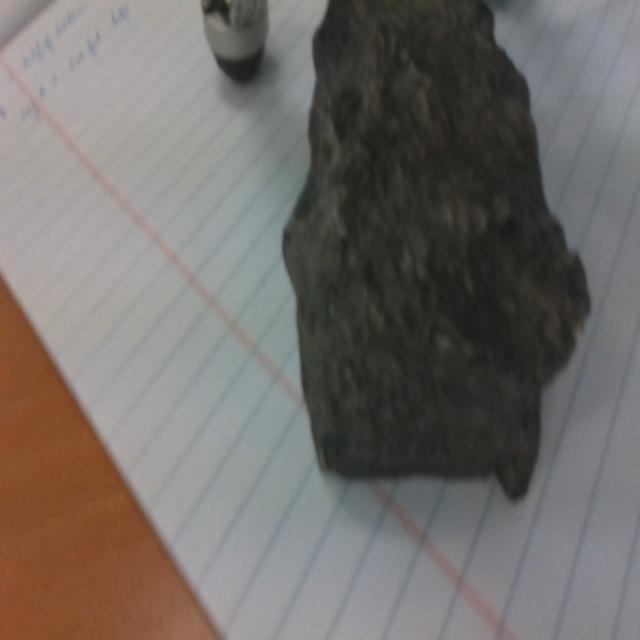stone: (282, 0, 591, 500)
